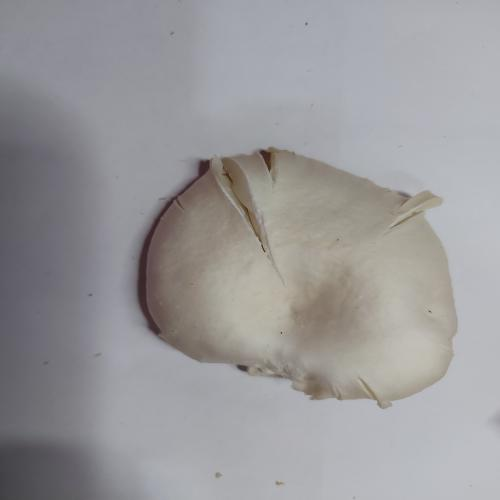Oyster Mushroom: (141, 146, 459, 409)
